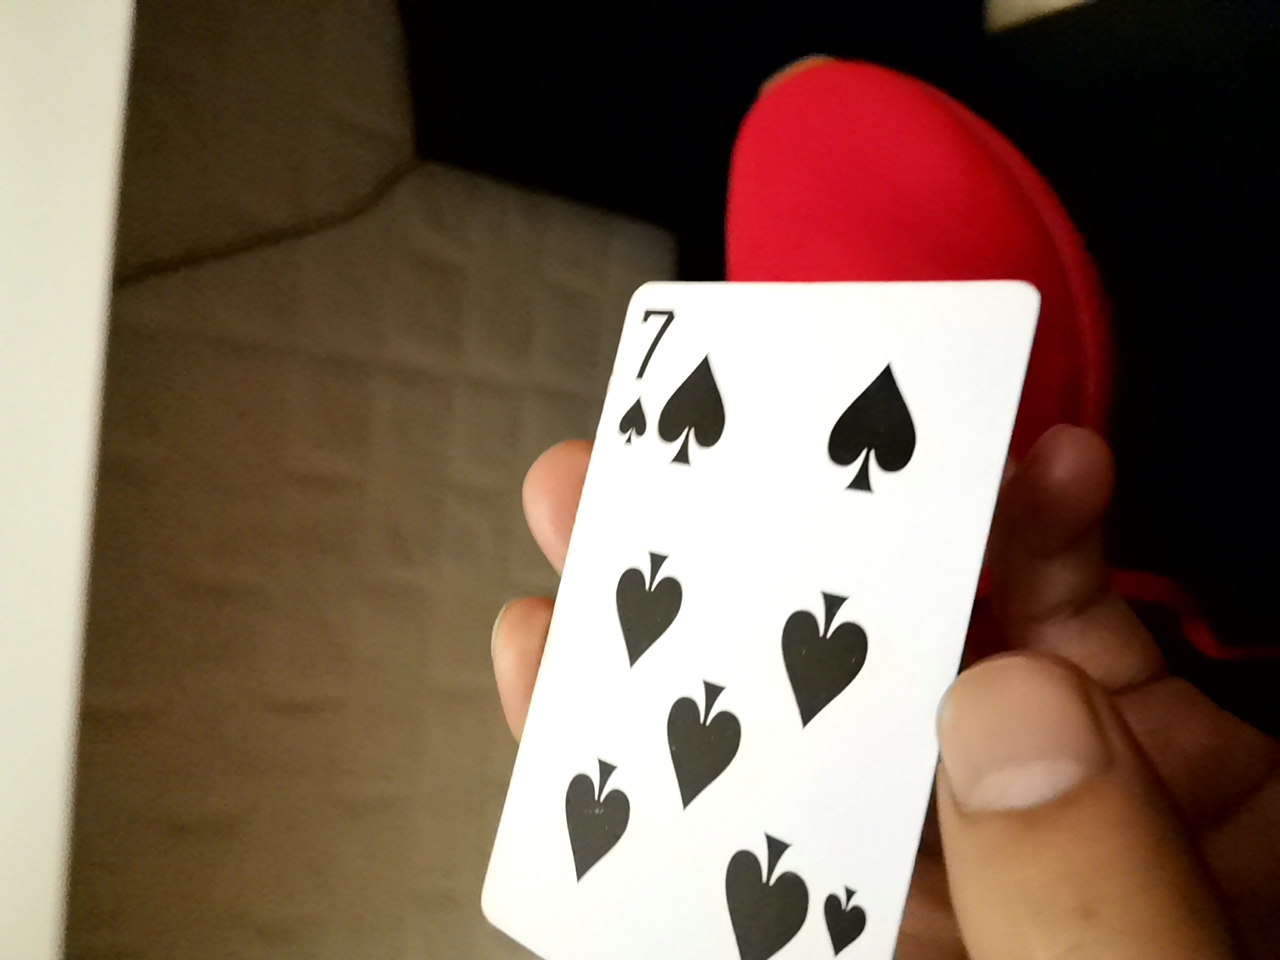ht 7: (482, 284, 1025, 956)
